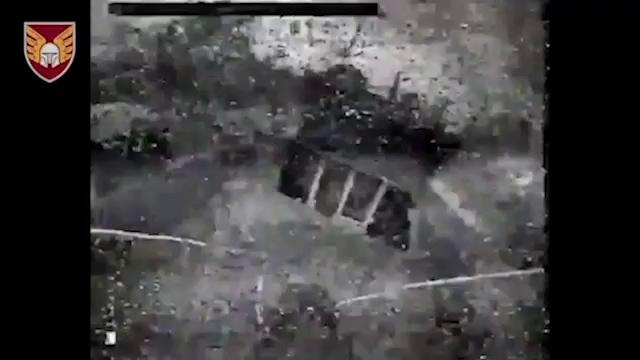tank: (155, 133, 484, 357)
